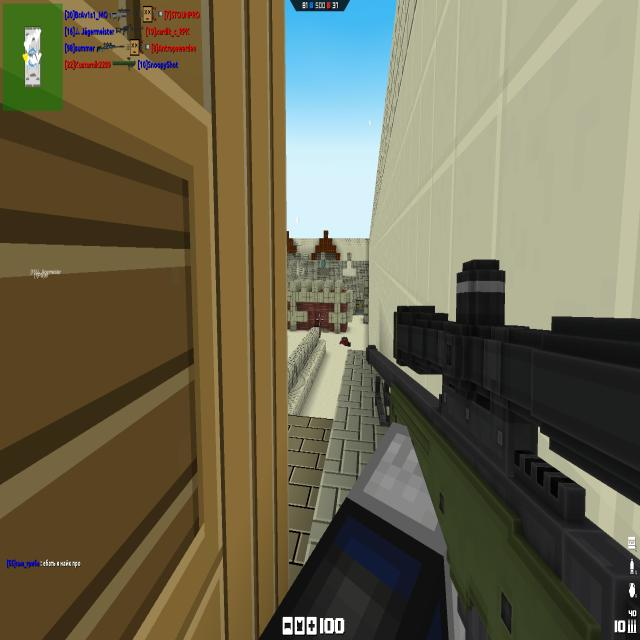player: (340, 336, 351, 347), (314, 320, 320, 326)
